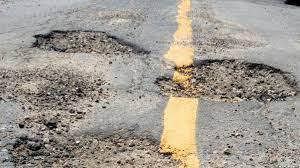pothole: (4, 124, 166, 168), (153, 58, 300, 103), (0, 62, 100, 116), (32, 25, 151, 63)
